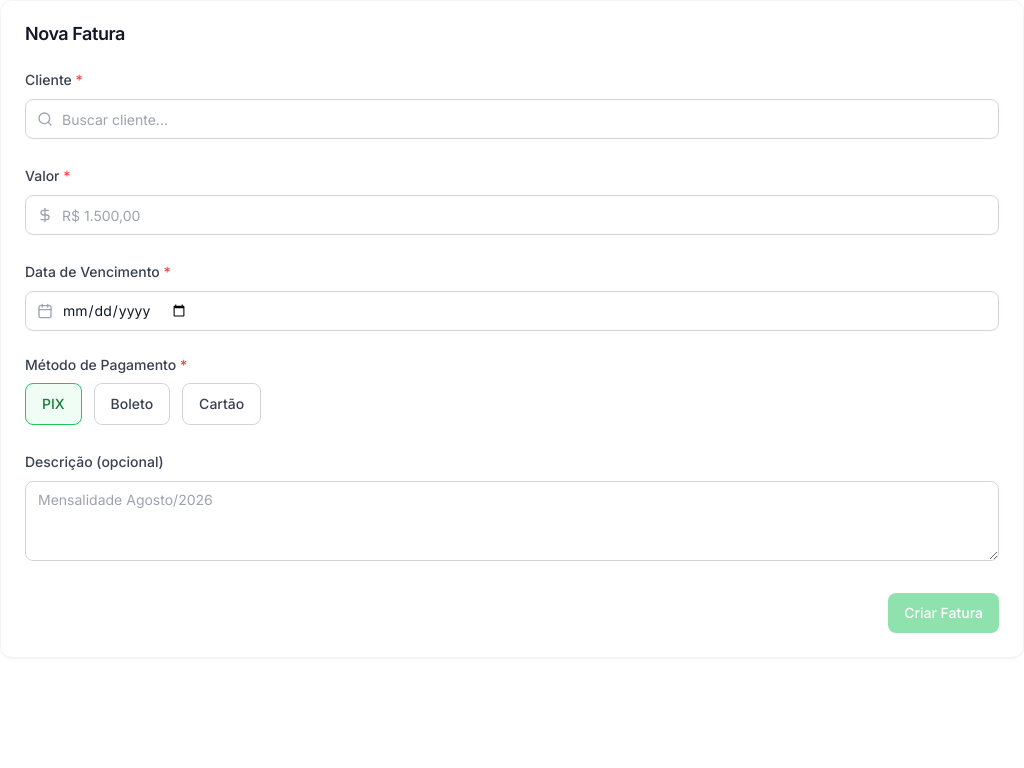
Test: InvoiceForm › seleção de cliente › deve exibir dropdown de clientes ao digitar 2+ caracteres
Type "Jo" into the dropdown with placeholder "Buscar cliente..." at (512, 119), box x1=25 y1=99 x2=999 y2=139
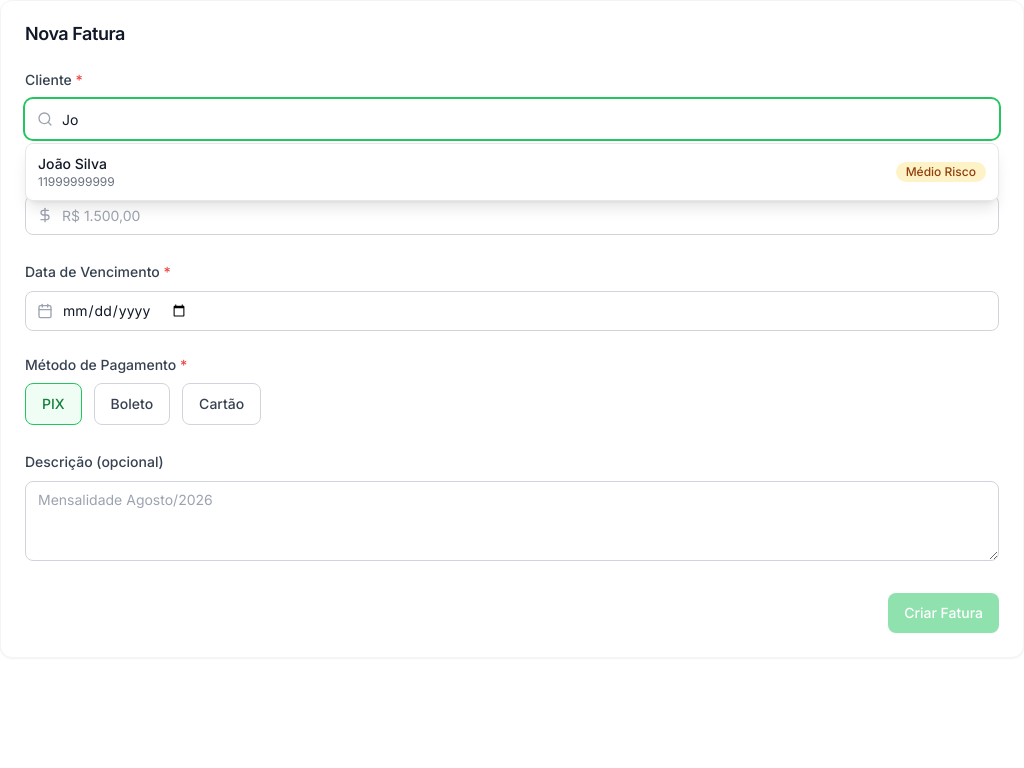
Now the list is shown, box x1=25 y1=143 x2=999 y2=201
